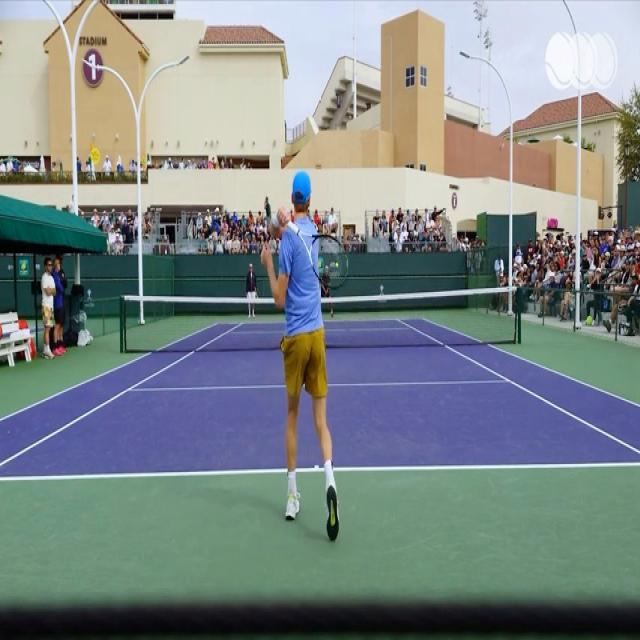forehand-finish: (256, 165, 346, 565)
